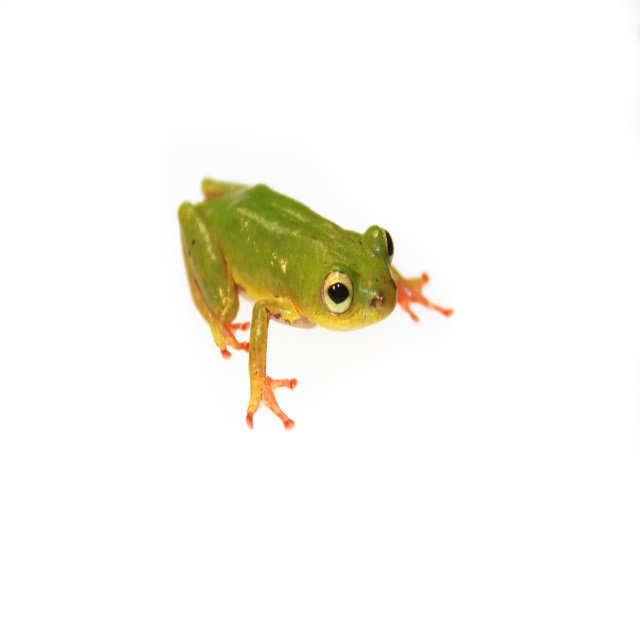Frog: (176, 174, 452, 430)
